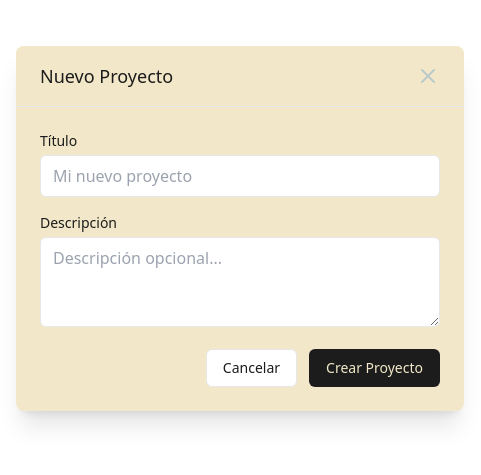
CreateProjectModal.vue › shows error message from store
In the field with placeholder "Mi nuevo proyecto": [240, 176] box x1=40 y1=154 x2=440 y2=196, type "Title"
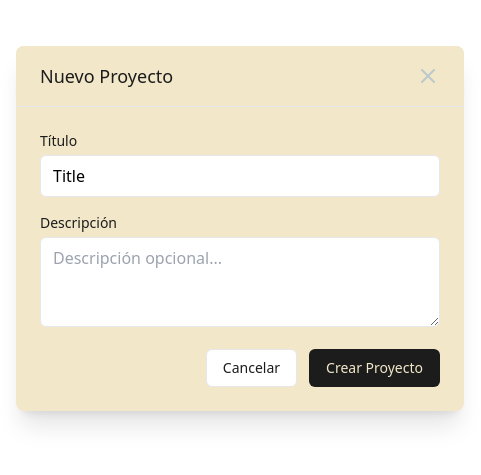
Submit the form, box x1=16 y1=106 x2=464 y2=410
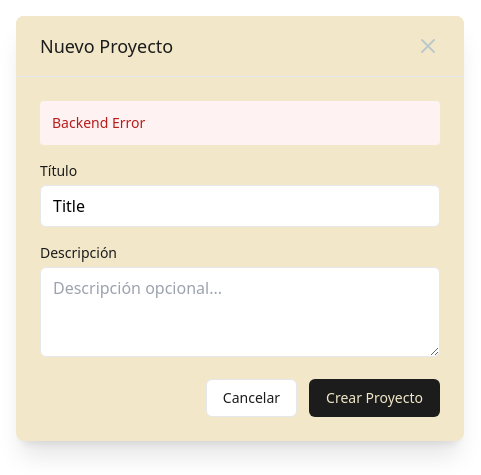
Check: the text "Backend Error" is shown, box x1=40 y1=100 x2=440 y2=144
